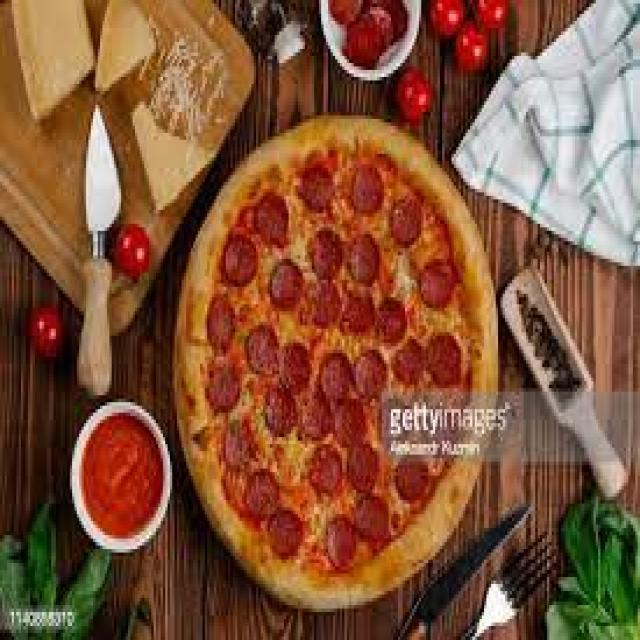Pizza: (175, 157, 507, 611)
